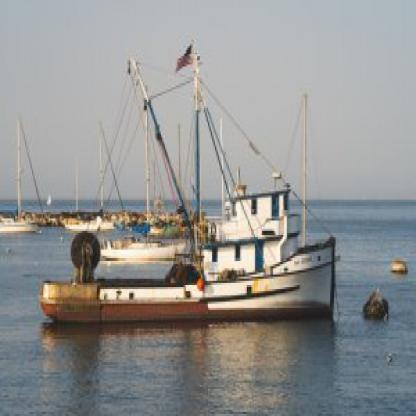fish-b: (30, 54, 344, 335)
